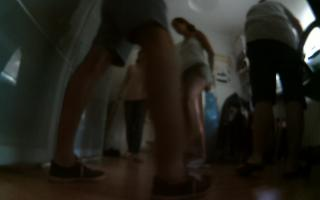person: (45, 1, 208, 200), (234, 1, 315, 182), (166, 14, 218, 179), (110, 45, 158, 167)
